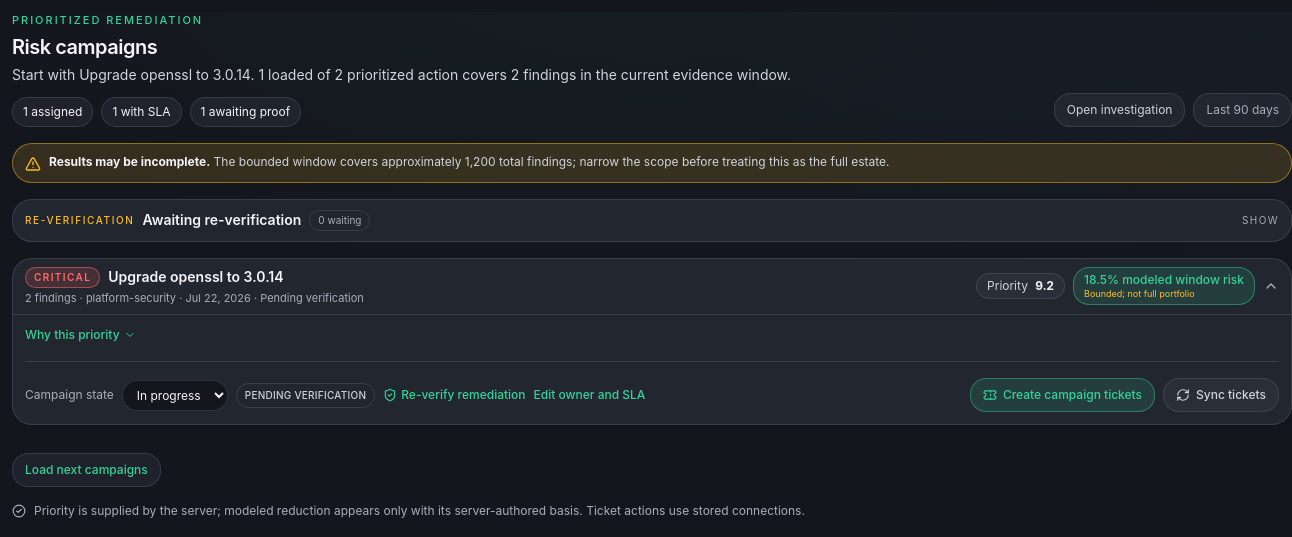
Scenario: RiskCampaignCommandCenter › loads later server-ranked pages without discarding the current cards
Click the button "Load next campaigns". click: (86,470)
box: x1=12 y1=453 x2=161 y2=487
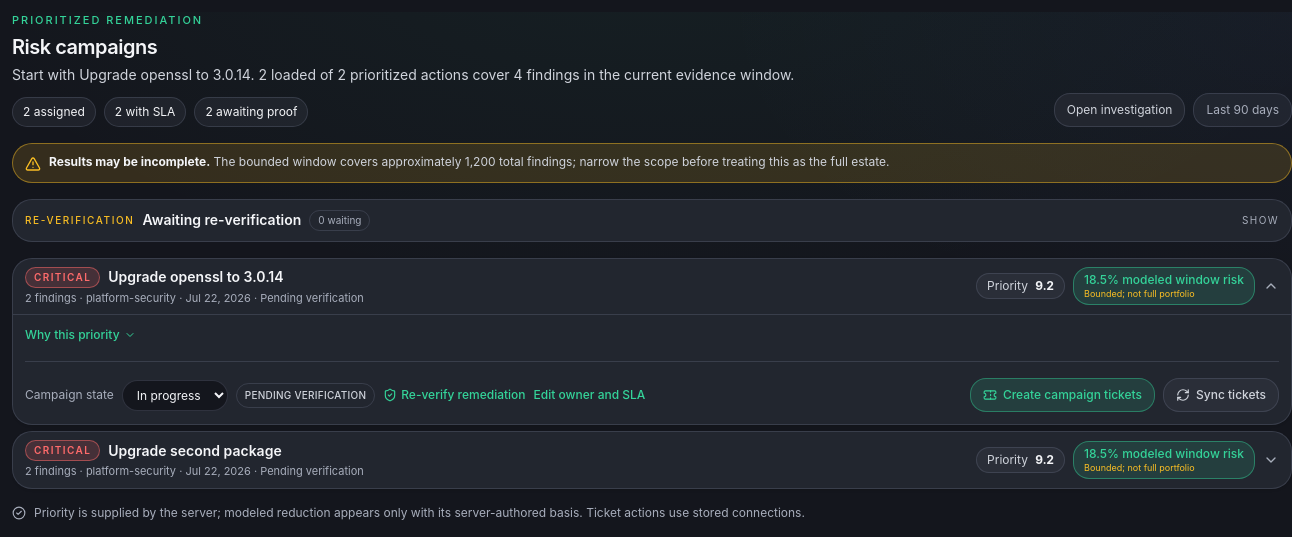
Expected: the heading "Upgrade openssl to 3.0.14" is shown, x1=108 y1=267 x2=284 y2=287
Expected: the heading "Upgrade second package" is shown, x1=108 y1=440 x2=282 y2=460
Expected: the button "Load next campaigns" is gone
